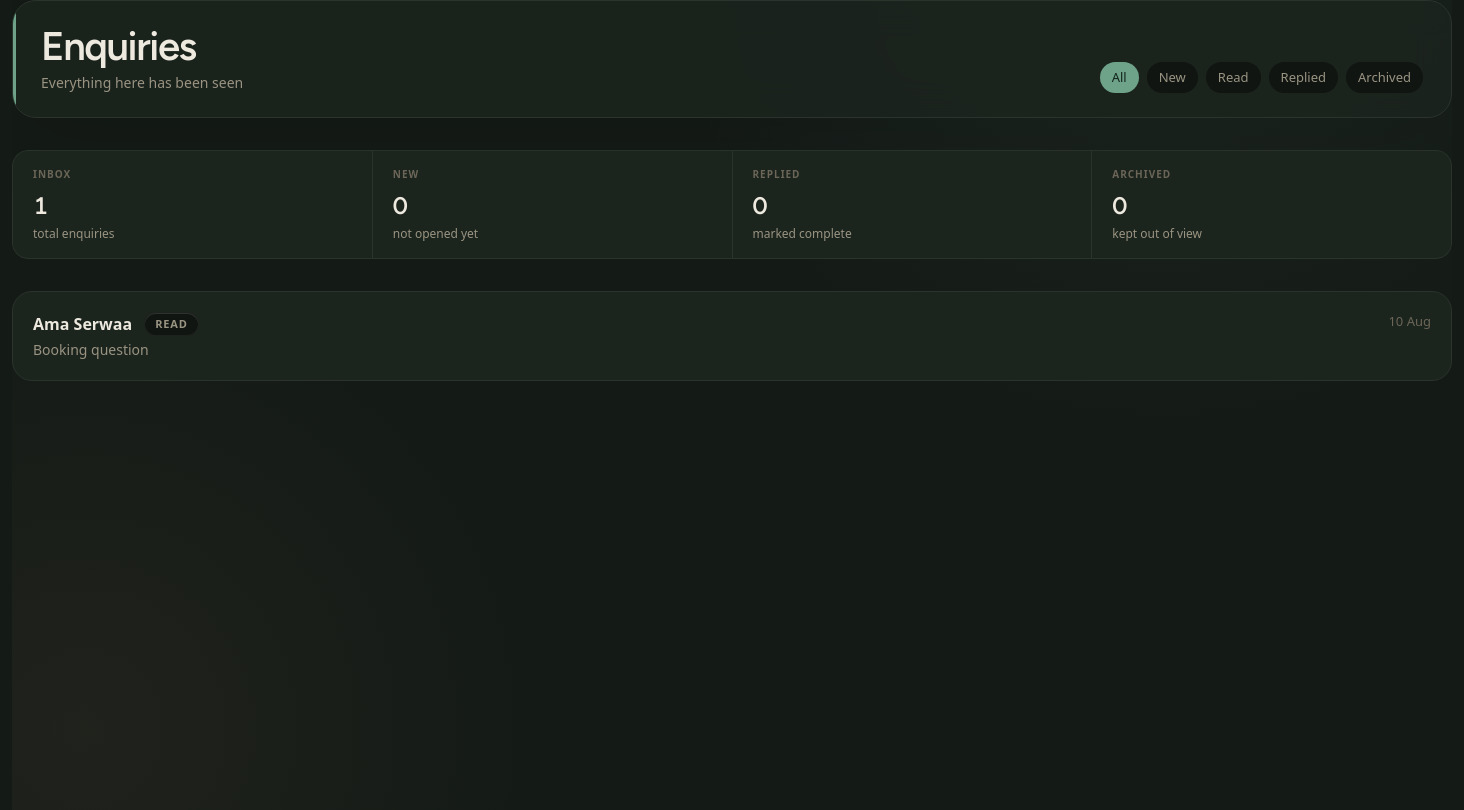
Test: EnquiriesPage › does not re-mark an enquiry that has already been read
Click the button "Ama Serwaa Read Booking question 10 Aug".
click(83, 324)  # box [13,292,1451,380]
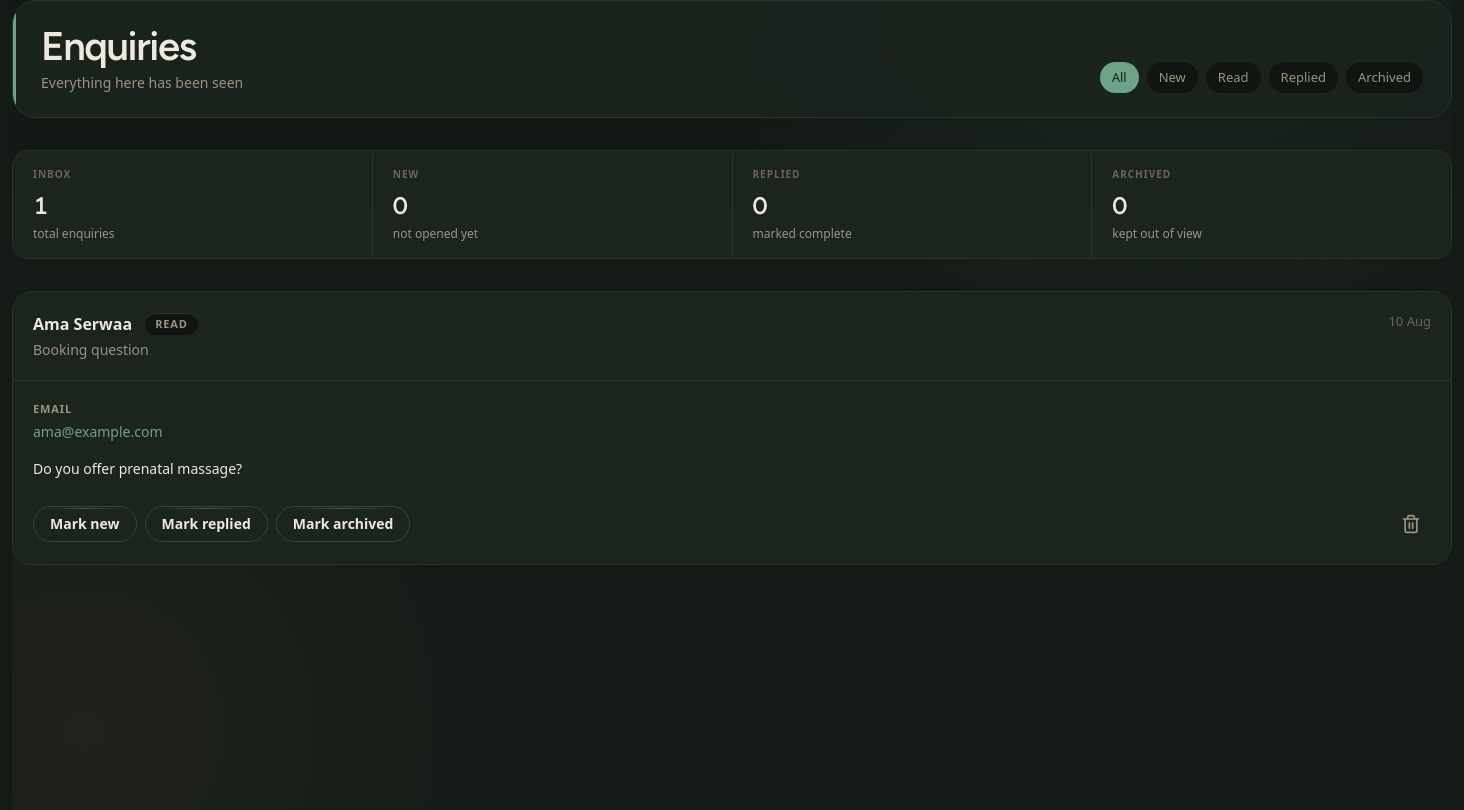
Now the text "Do you offer prenatal massage?" is shown, box [33,459,242,478]
